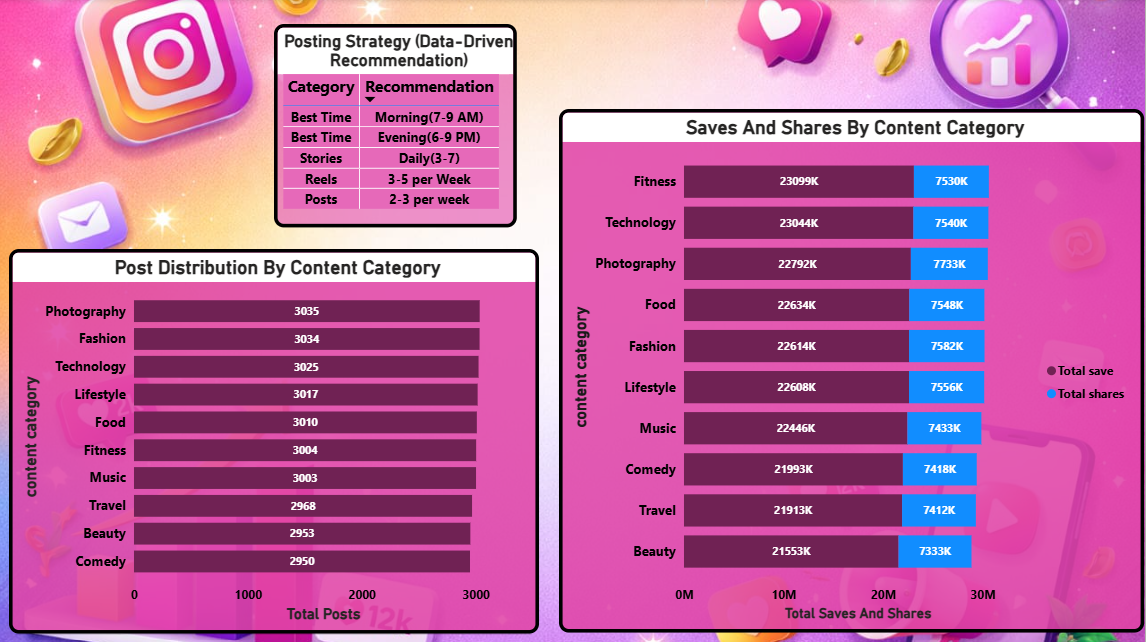

The dashboard page shown, as its layout file describes it:
{"tool":"powerbi","page":{"name":"Page 3","canvas":[1280,720],"ordinal":2},"visuals":[{"type":"clusteredBarChart","title":"Post Distribution  By Content Category","fields":{"Category":["Instagram_Analytics.content category"],"Y":["DAX.Total Posts"]},"box":[10.9,278.7,592.4,429.5],"z":0},{"type":"barChart","title":"Saves And Shares  By Content Category","fields":{"Category":["Instagram_Analytics.content category"],"Y":["DAX.Total save(m)","DAX.Total shares(m)"]},"box":[626.1,123.1,653.9,585.1],"z":1000},{"type":"tableEx","title":"Posting Strategy (Data-Driven Recommendation)","fields":{"Values":["Table (2).Category","Table (2).Recommendation"]},"box":[318.3,26.5,259.7,229],"z":2000}]}

Visuals, with their boxes in screenshot pixels (x1, y1, x2, y2), scaled from the page's 1280x720 canvas onto the 1146x642 screenshot:
"Post Distribution  By Content Category" clusteredBarChart: left=10, top=249, right=540, bottom=631
"Saves And Shares  By Content Category" barChart: left=561, top=110, right=1145, bottom=631
"Posting Strategy (Data-Driven Recommendation)" tableEx: left=285, top=24, right=517, bottom=228
